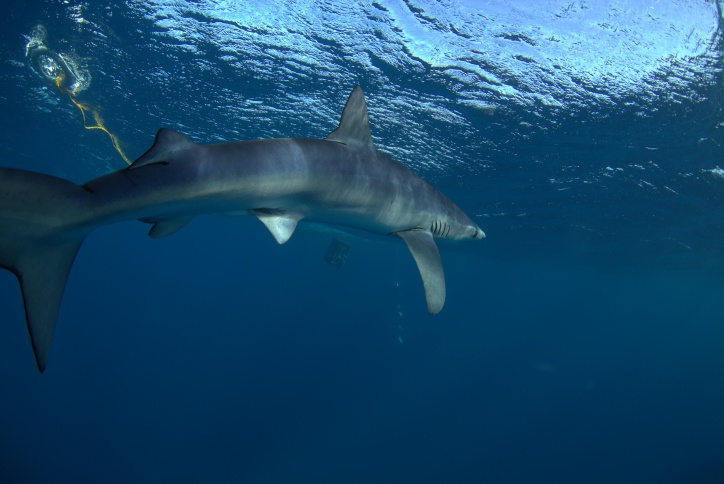Azul: (1, 83, 500, 385)
